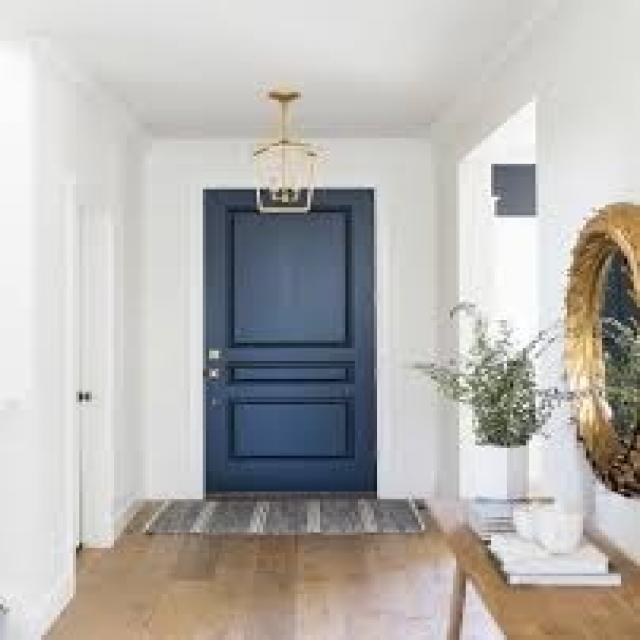Door: (206, 192, 371, 489)
